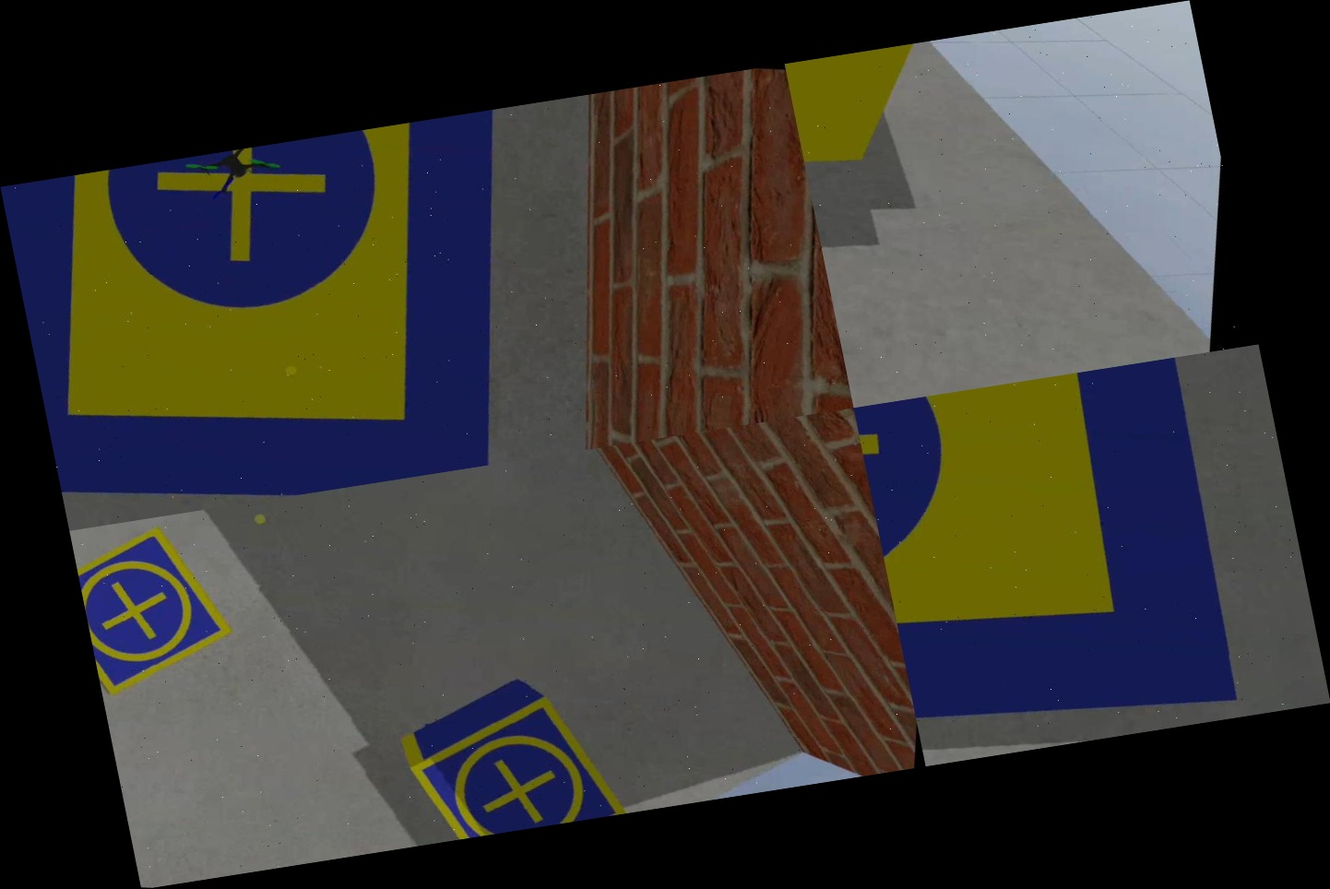large_base: (0, 104, 593, 530), (854, 344, 1330, 765)
small_base: (369, 655, 657, 848), (69, 505, 268, 721)
